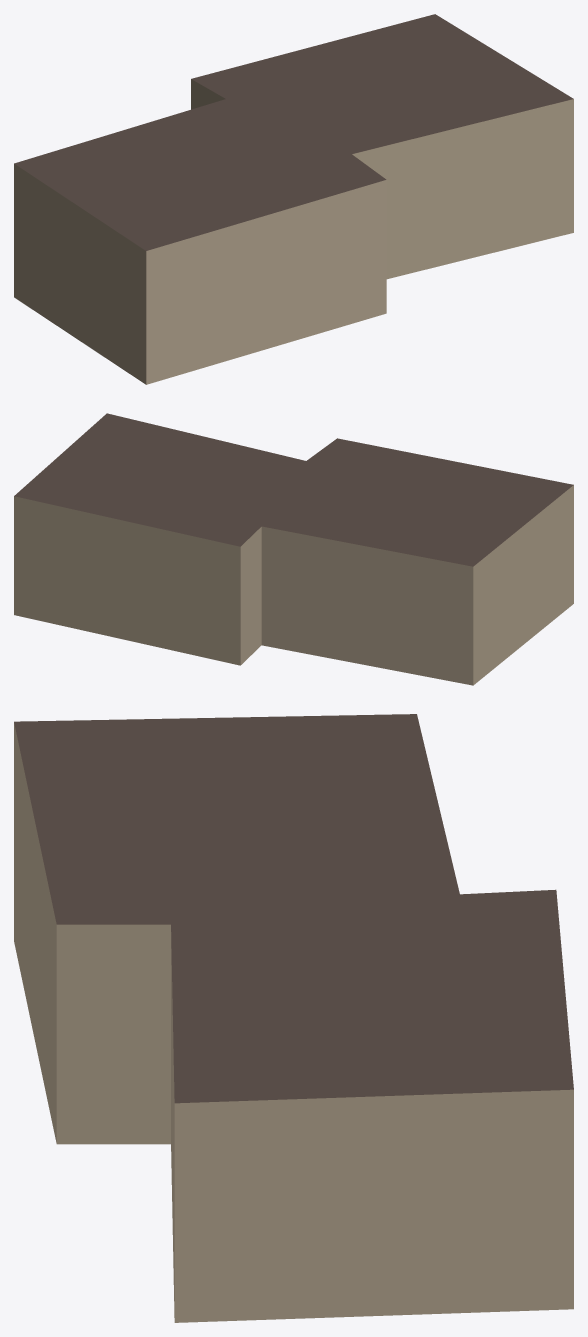
The picture shows the model from 3 angles, top to bottom: view 1: azimuth 30°, elevation 25°; view 2: azimuth 150°, elevation 25°; view 3: azimuth 270°, elevation 25°; orthographic projection. The views are drawn at different scales.
Parts seen in each view (by area): view 1: HP-w1512911301; view 2: HP-w1512911301; view 3: HP-w1512911301.
Part boxes in pixels (<box>): HP-w1512911301: <box>14,14,573,384</box>; HP-w1512911301: <box>14,413,573,685</box>; HP-w1512911301: <box>14,714,573,1322</box>.
Size of the model in its own units: 34.22 by 9 by 20.8.
